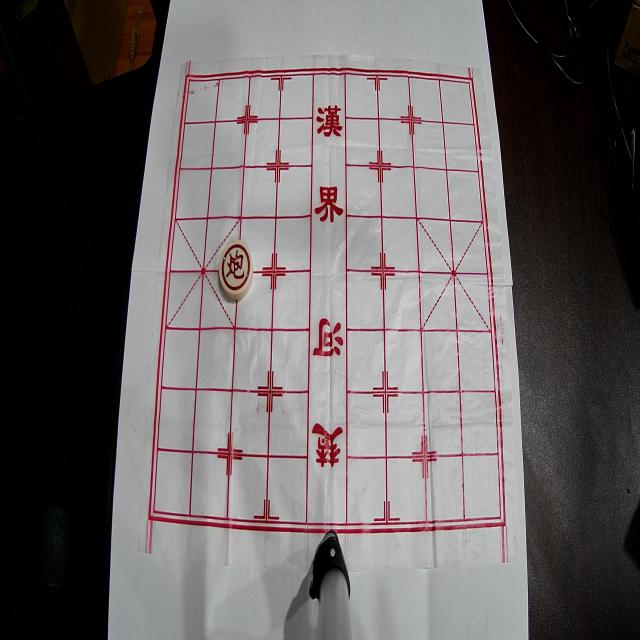red-cannon: (219, 240, 253, 300)
